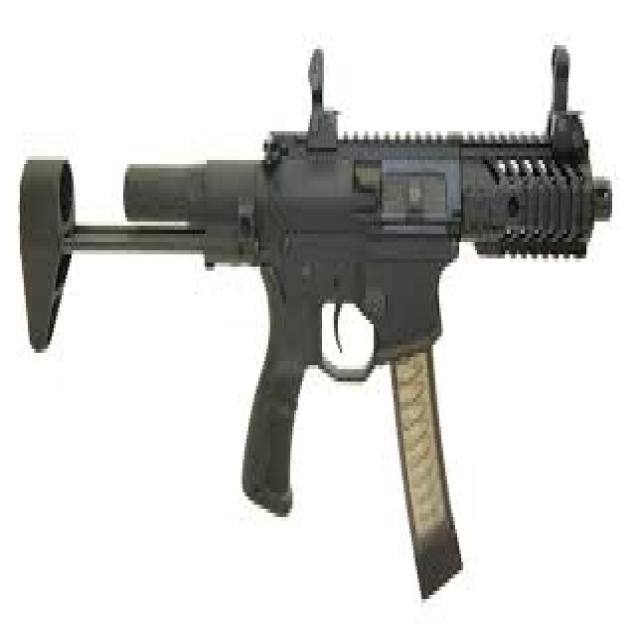rifle: (9, 40, 622, 633)
